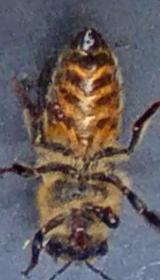varroa_mite: (46, 96, 68, 122)
